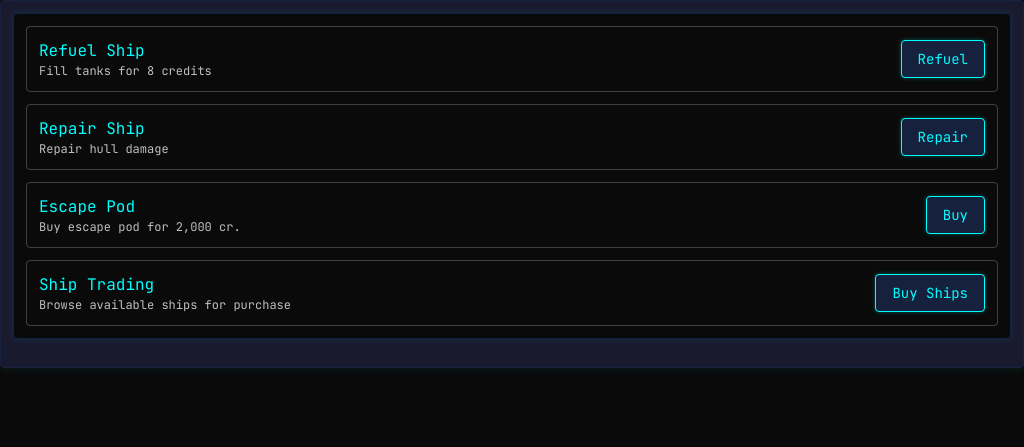
Test: ShipyardScreen › should show error message after failed action
Click the button with test id "refuel-button": (943, 59) 901,40 -> 985,78
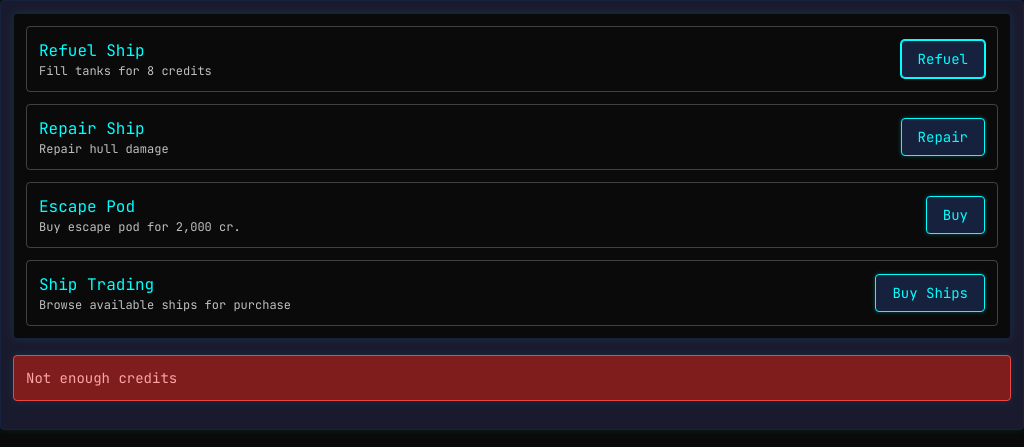
Now the text "Not enough credits" is shown, box 26,369 -> 177,387
